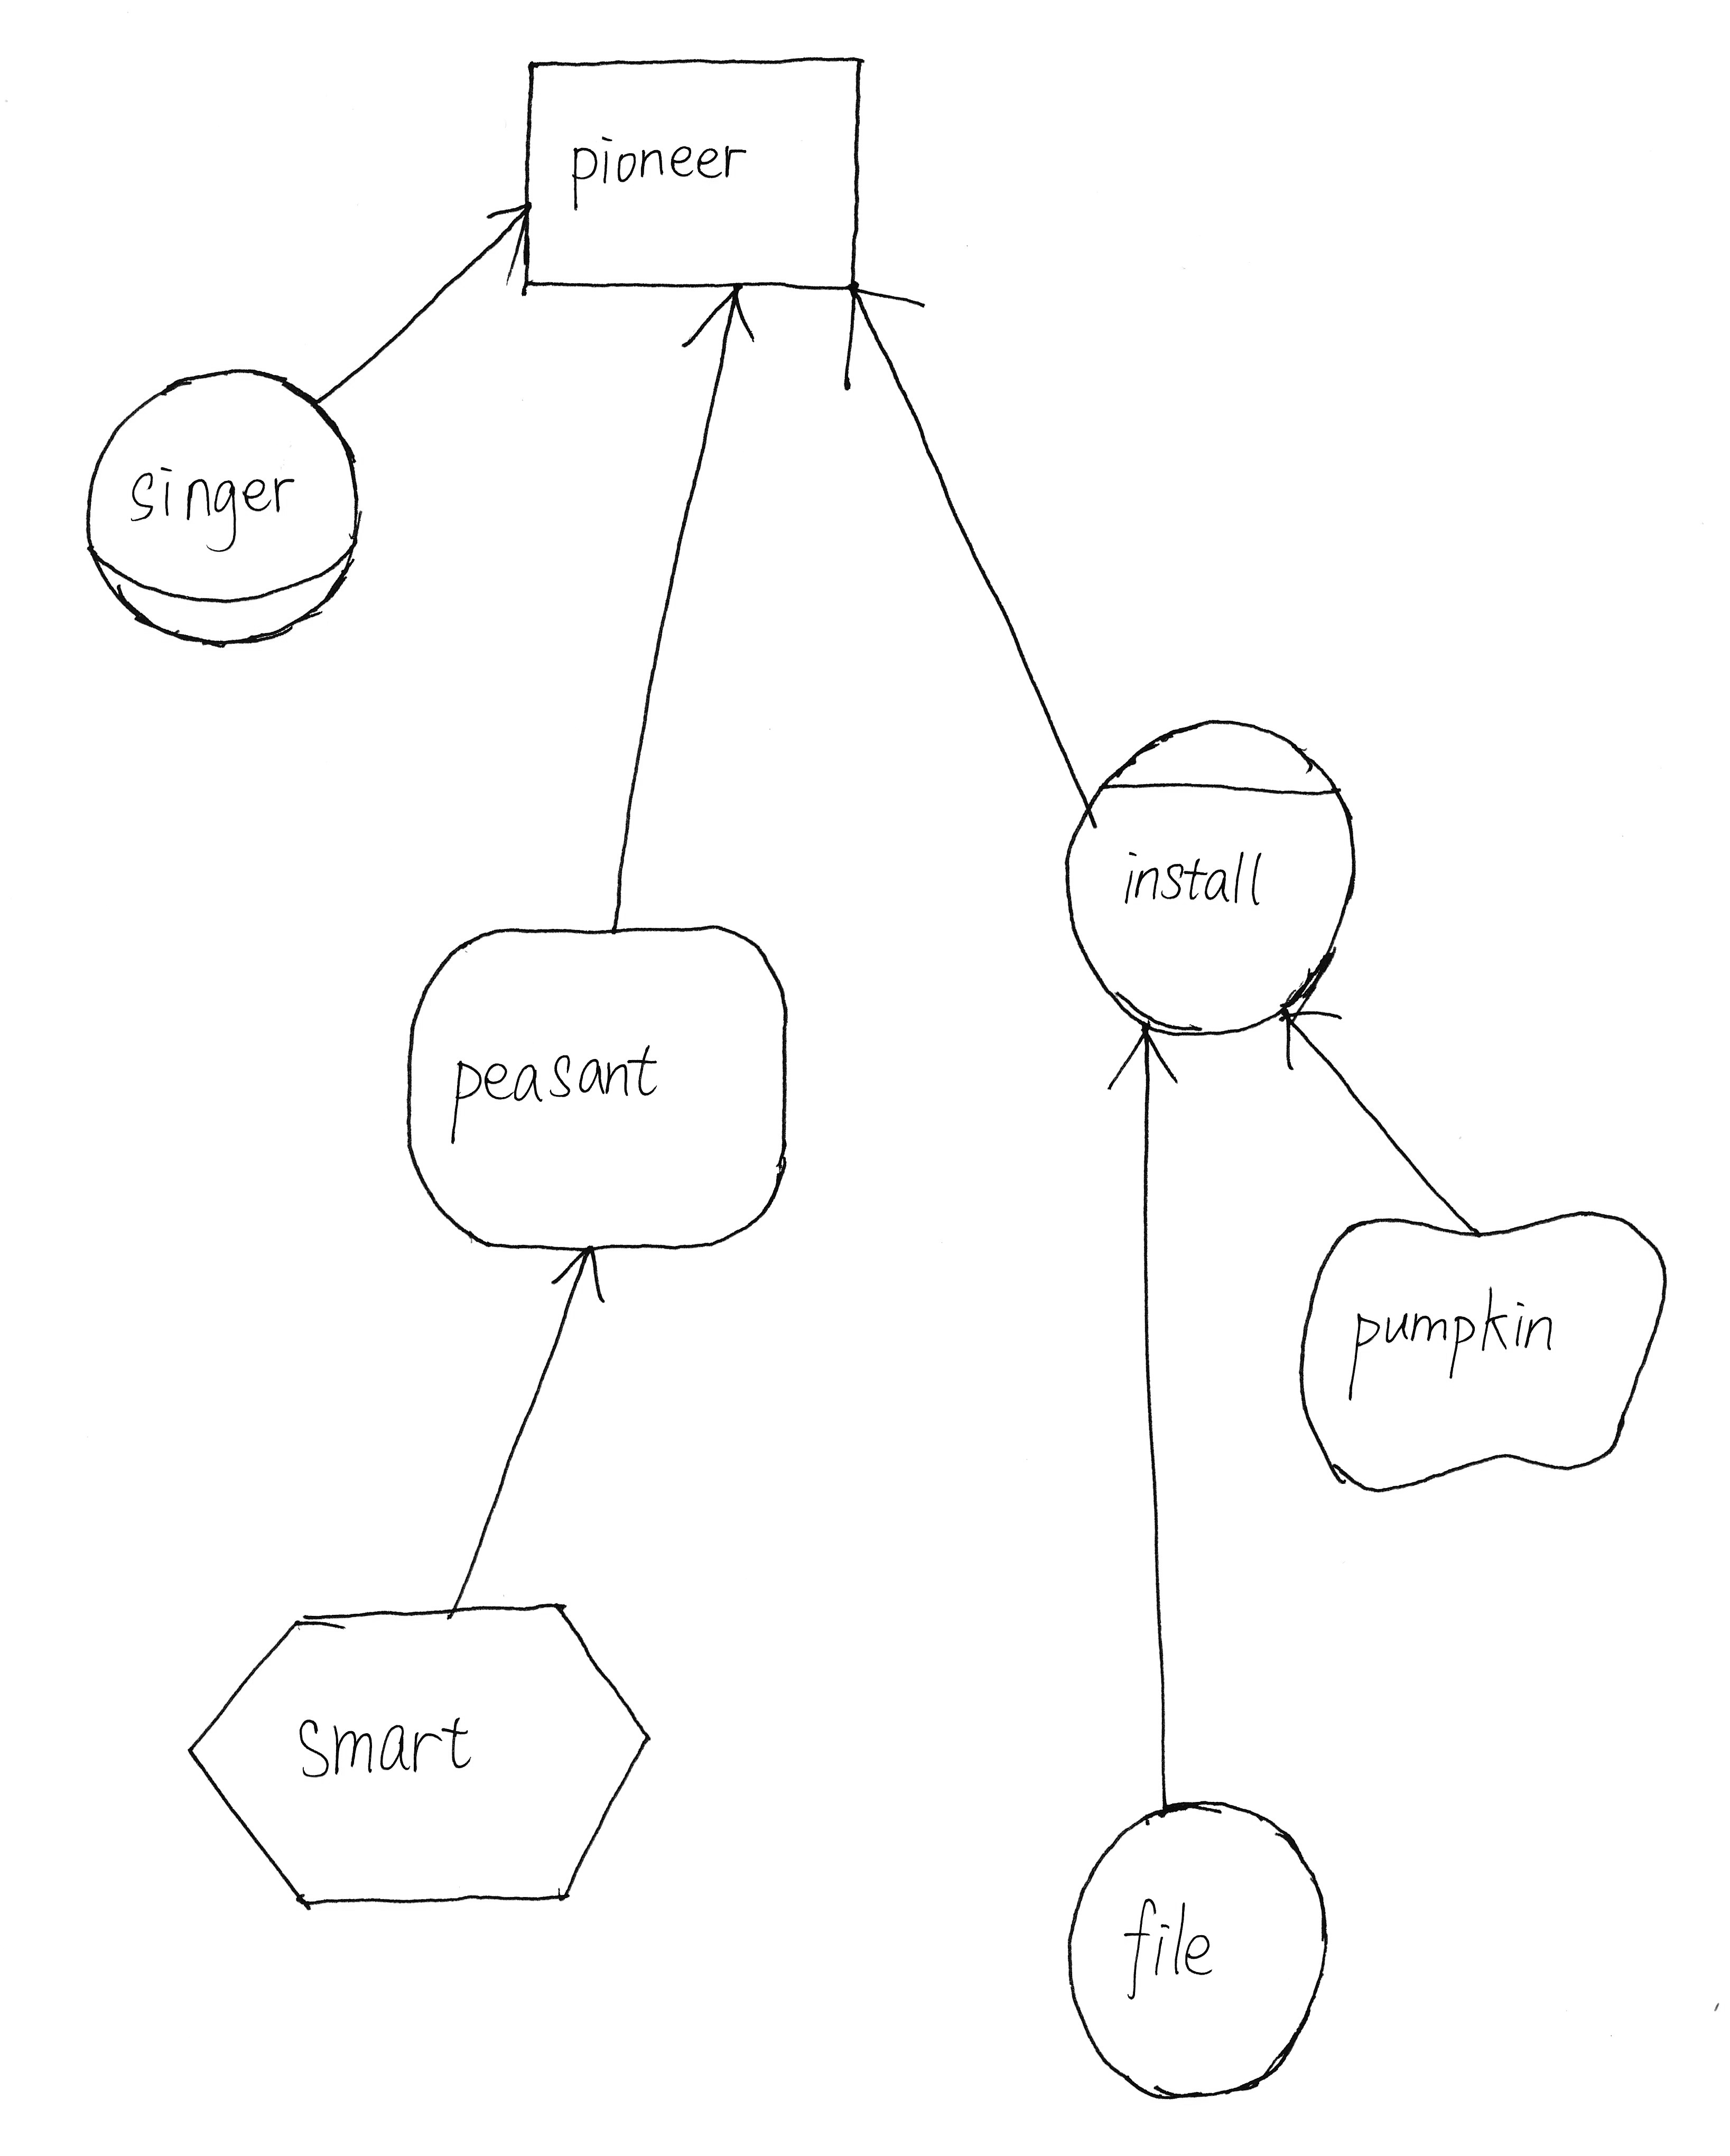actor: (1036, 1780, 1343, 2130)
agent: (1038, 696, 1375, 1054)
arrow: (816, 267, 941, 406), (468, 175, 558, 307), (1080, 1001, 1190, 1102), (530, 1213, 630, 1317), (664, 268, 764, 371), (1262, 991, 1358, 1081)
goal: (383, 901, 816, 1270)
quality: (1278, 1187, 1695, 1510)
resource: (494, 30, 897, 321)
role: (62, 348, 374, 662)
task: (162, 1580, 678, 1944)
